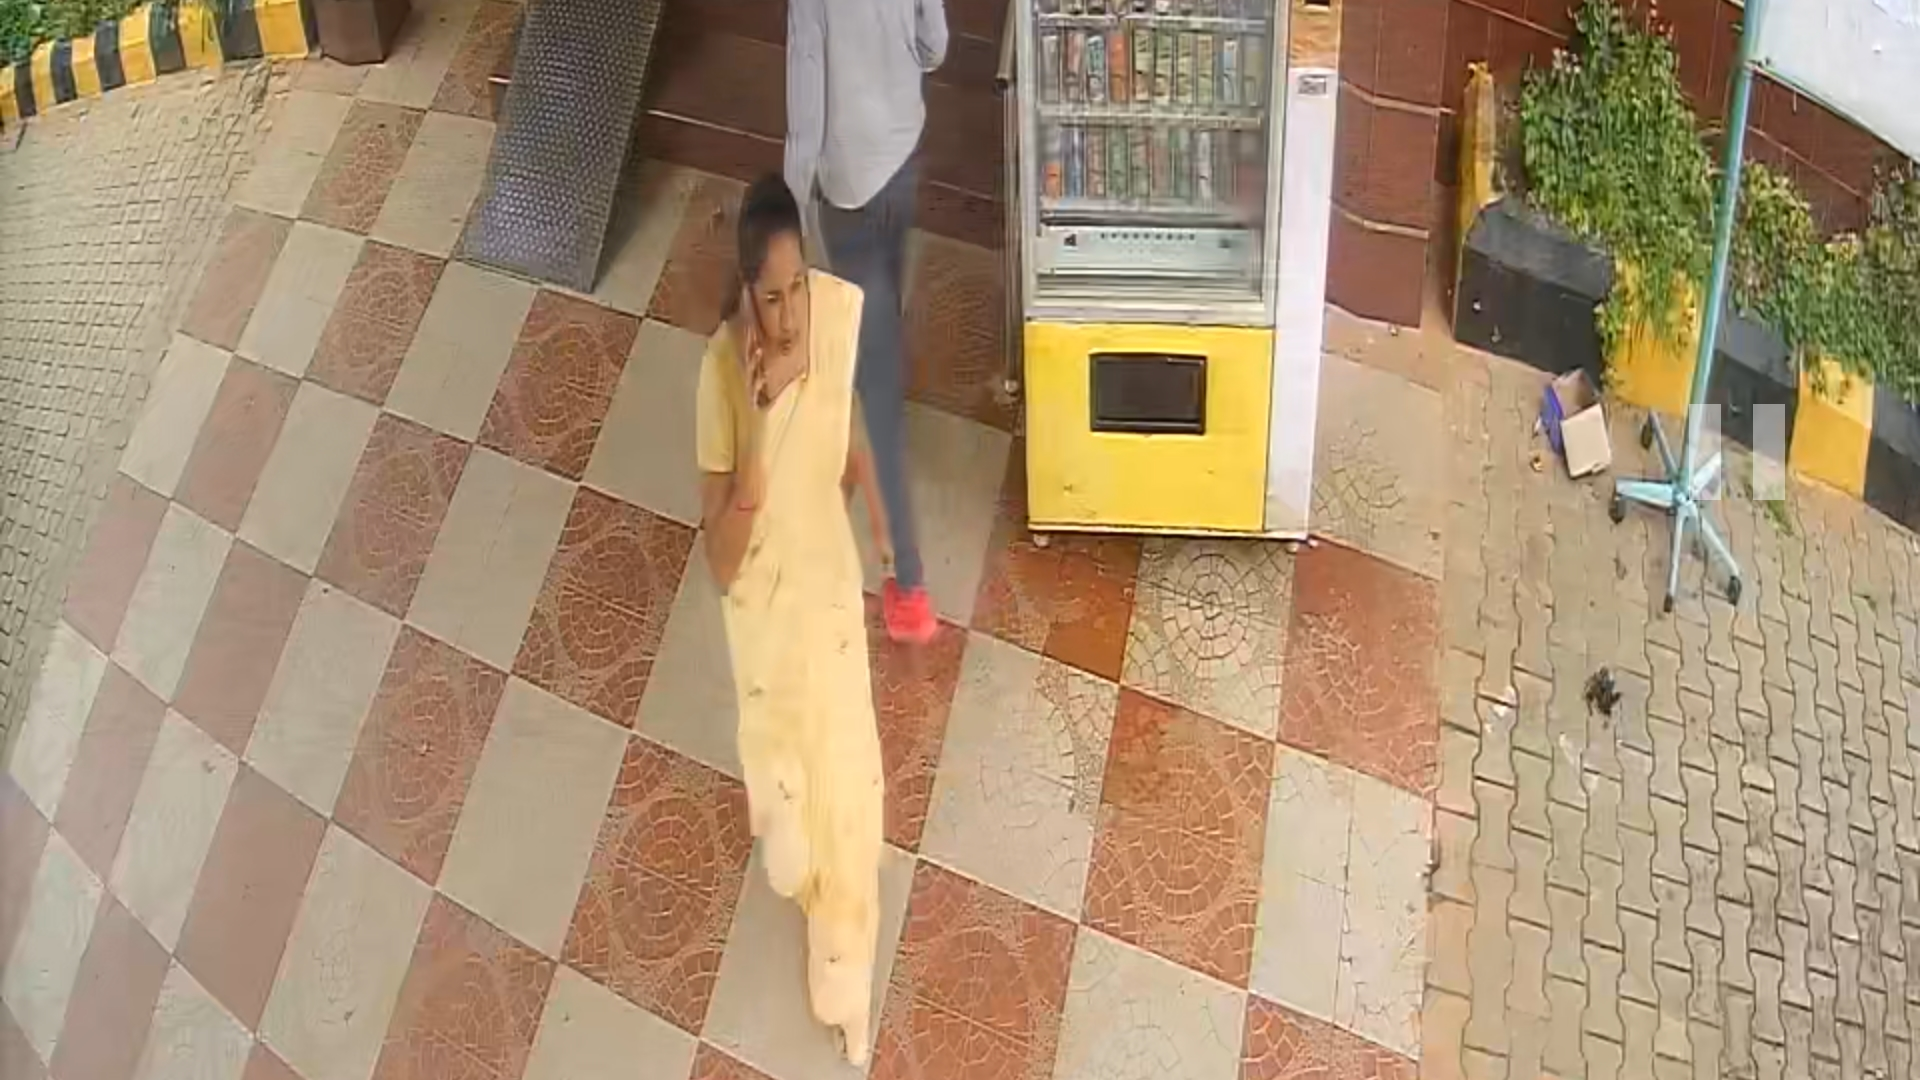intruder: (690, 175, 911, 1069)
